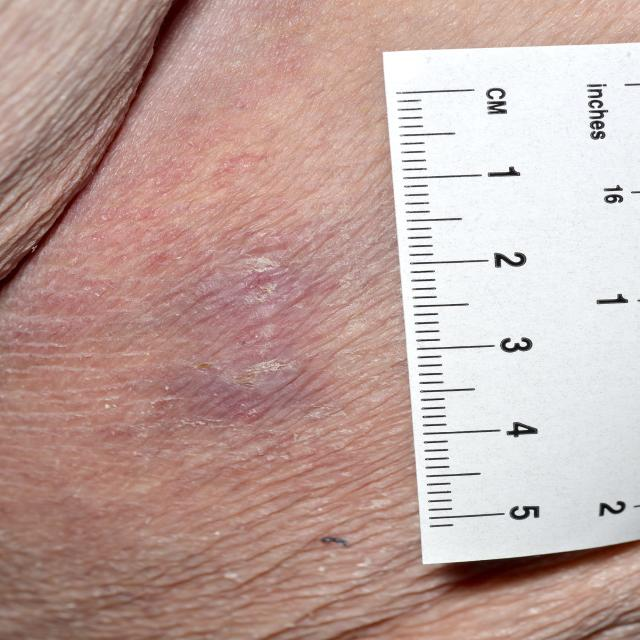wound: (75, 156, 392, 508)
